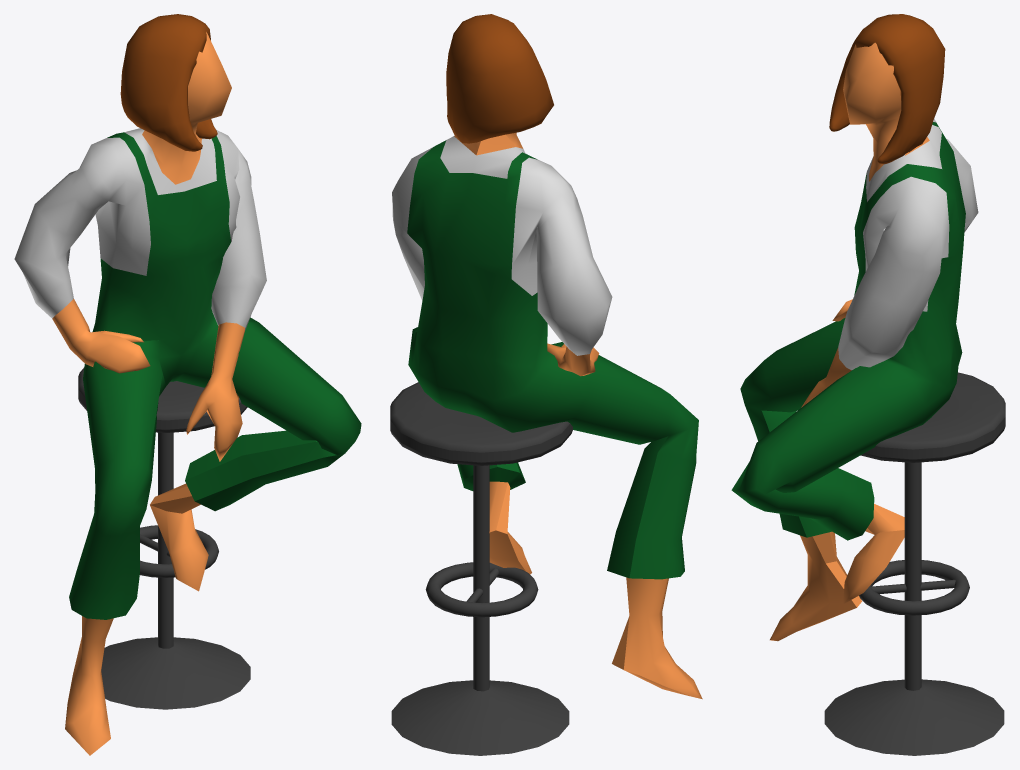
File: GirlSit.fbx
The picture shows the model from 3 angles, left to right: view 1: azimuth 30°, elevation 25°; view 2: azimuth 150°, elevation 25°; view 3: azimuth 270°, elevation 25°; orthographic projection. The views are drawn at different scales.
Visible parts, largest first — view 1: GirlSit_00, GirlSit_03, GirlSit_02, GirlSit_Chair, GirlSit_01; view 2: GirlSit_00, GirlSit_Chair, GirlSit_03, GirlSit_01, GirlSit_02; view 3: GirlSit_00, GirlSit_Chair, GirlSit_03, GirlSit_02, GirlSit_01.
Boxes of the visible parts, x1,y1,x2,y2 form: GirlSit_00: (69,132,361,619); GirlSit_03: (14,128,266,330); GirlSit_02: (52,32,244,755); GirlSit_Chair: (78,367,250,709); GirlSit_01: (120,14,217,151); GirlSit_00: (407,140,698,579); GirlSit_Chair: (390,382,572,755); GirlSit_03: (392,136,612,355); GirlSit_01: (446,14,553,143); GirlSit_02: (454,132,702,699); GirlSit_00: (731,122,965,540); GirlSit_Chair: (824,372,1005,755); GirlSit_03: (838,118,978,370); GirlSit_02: (770,42,929,641); GirlSit_01: (829,14,945,164).
Bounding box in the file's own units: 75.28 × 174 × 61.85.
